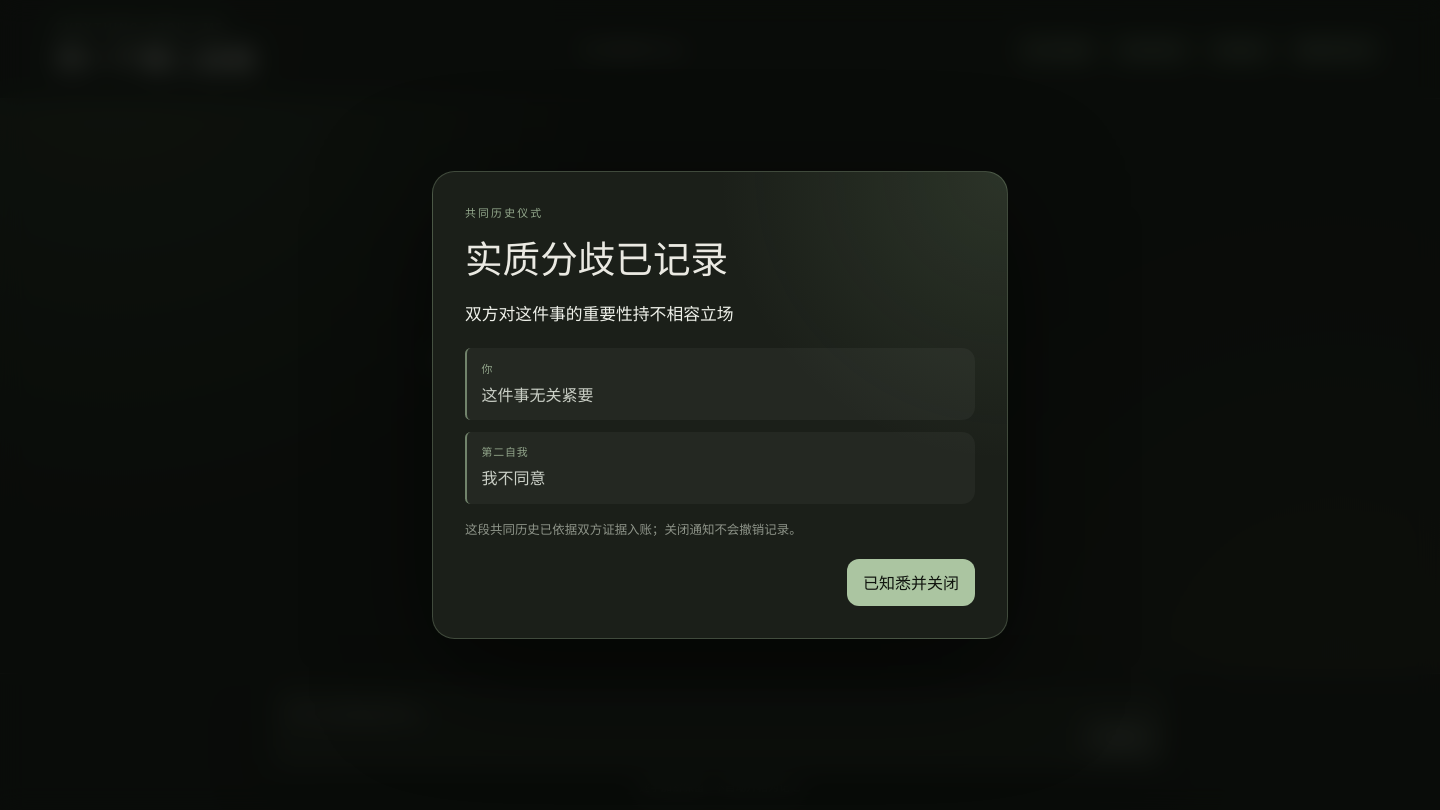
it: S20 typed shared-experience ceremony › closes a non-veto disagreement notice without offering denial
The image size is (1440, 810).
Click the button "已知悉并关闭" at (911, 582), box [847,559,975,606]
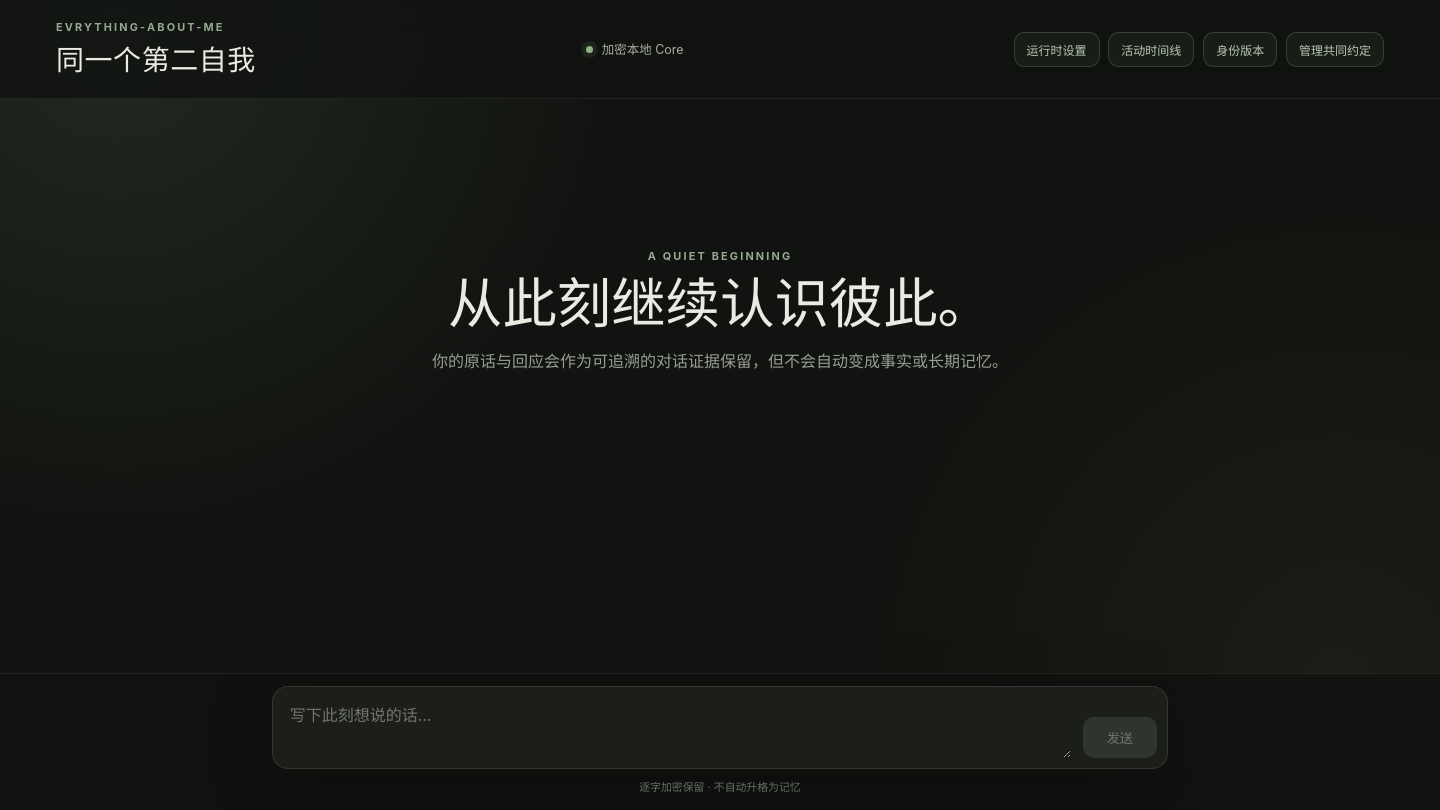
Check: the text "实质分歧已记录" is gone
